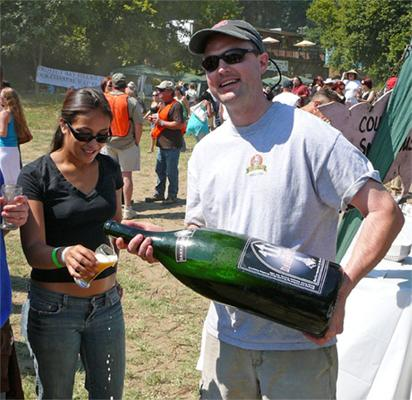person: (115, 20, 405, 399)
